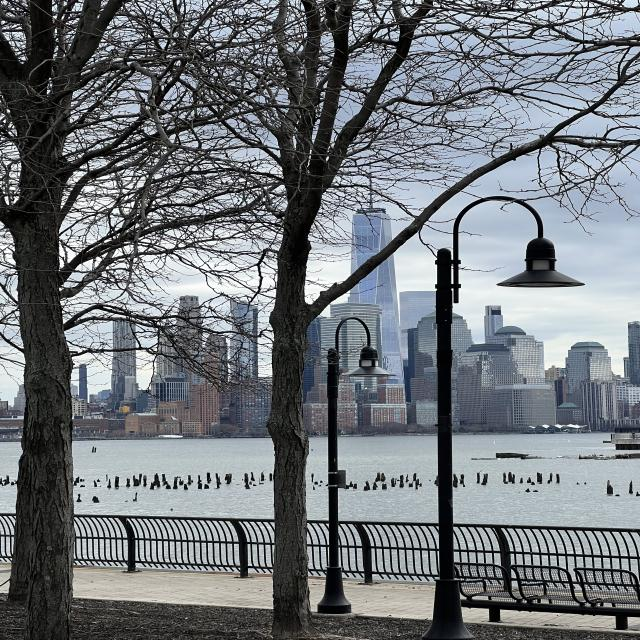WTC: (347, 161, 399, 303)
